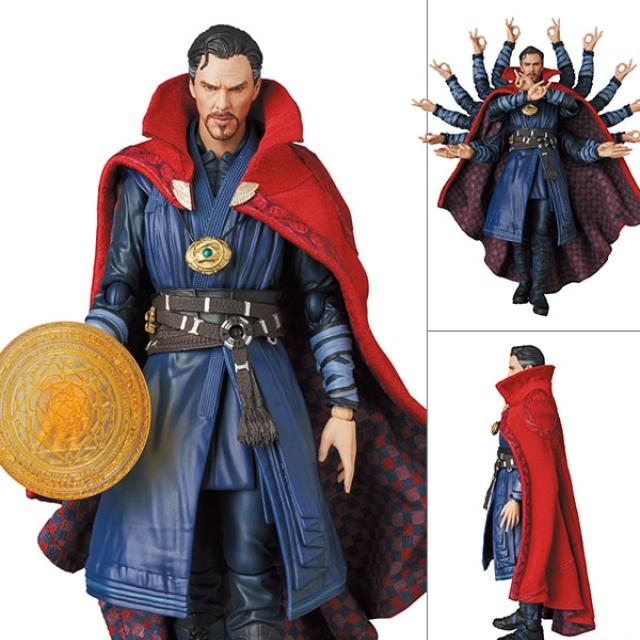doctor_strange: (46, 21, 393, 630), (466, 16, 620, 309), (462, 339, 606, 640)
